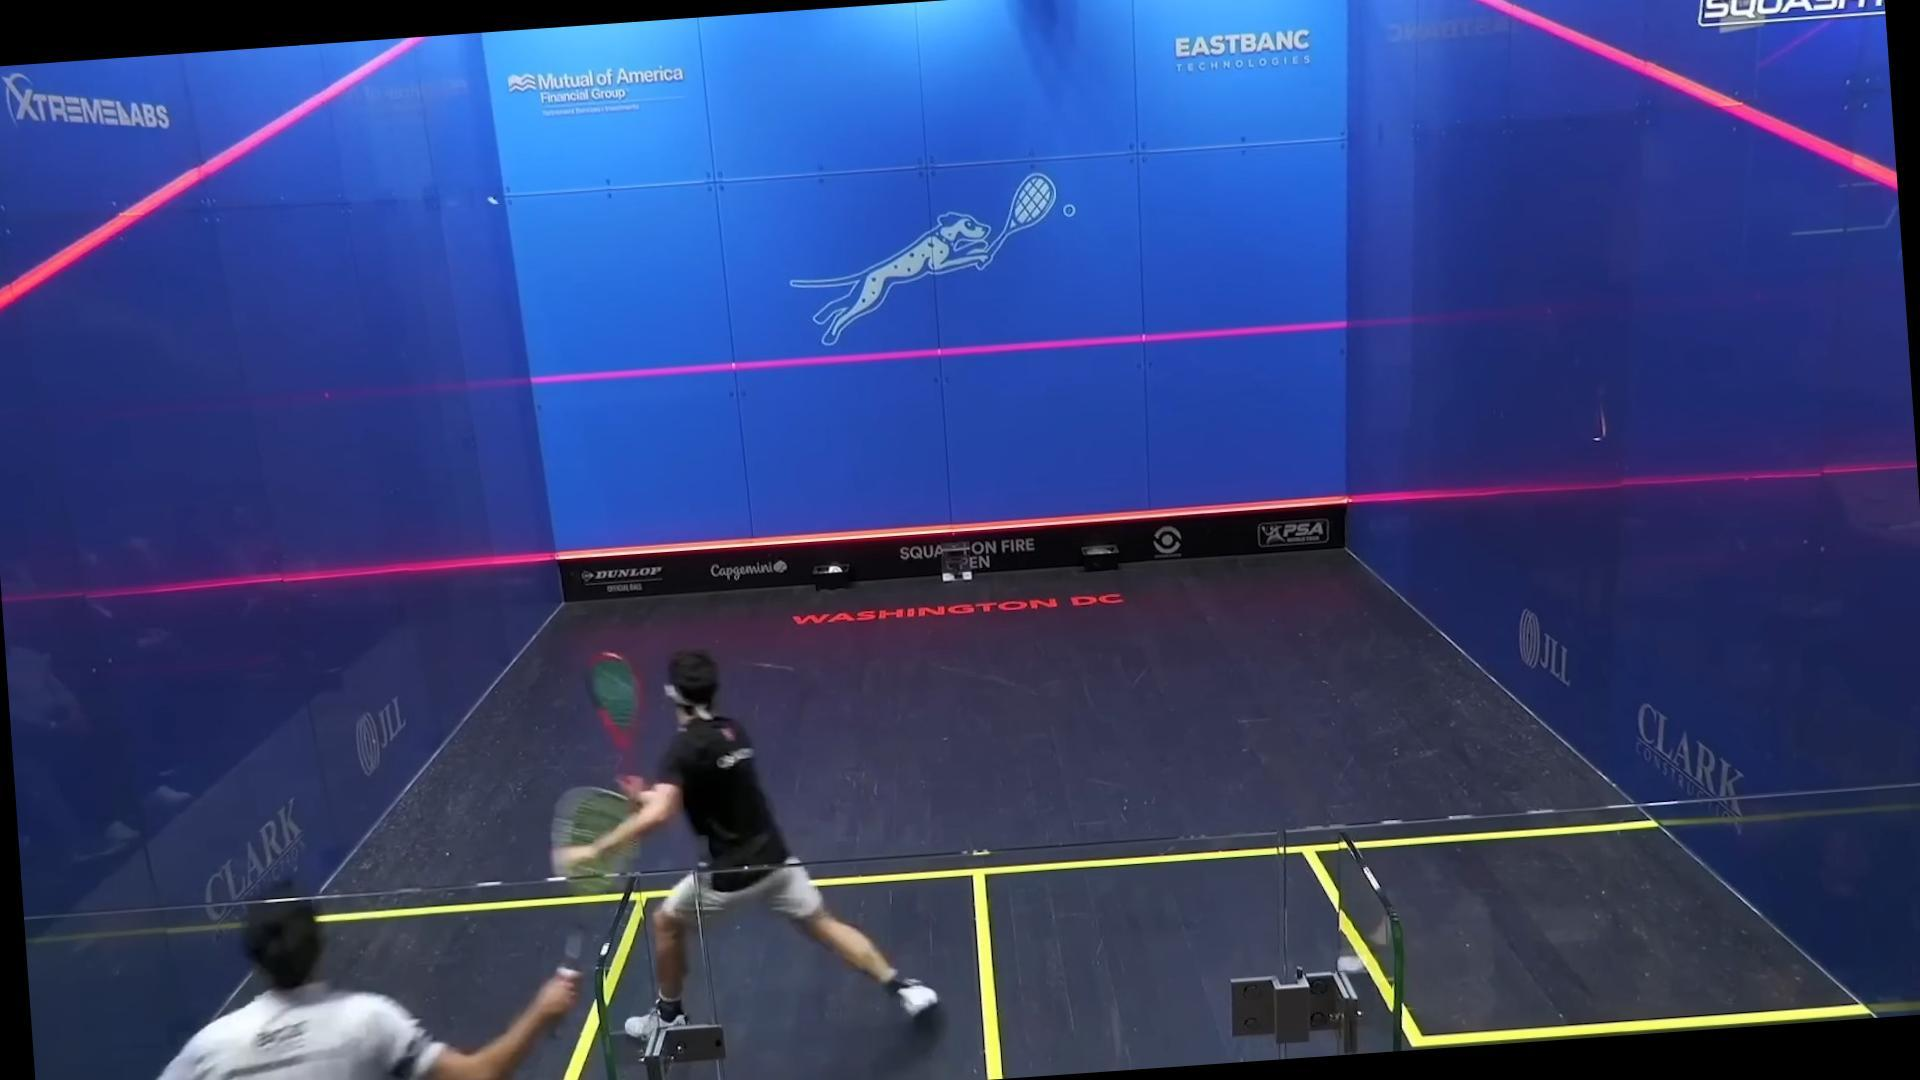Squash-Ball: (471, 179, 512, 220)
